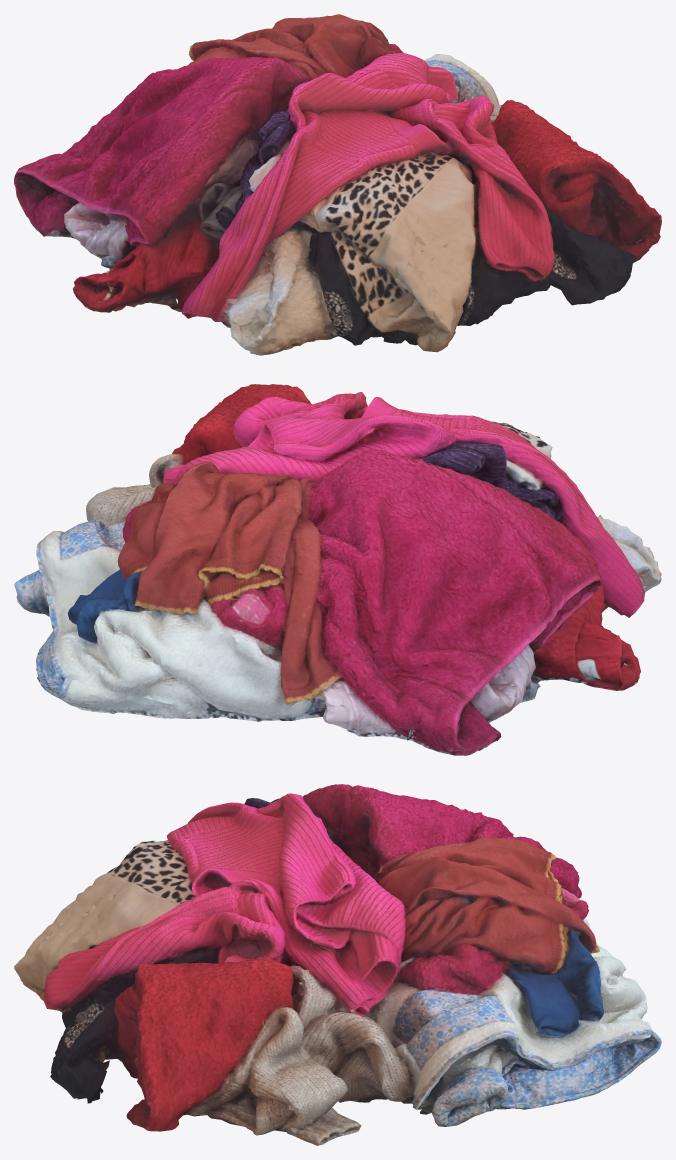
The model's file is pile_of_clothes.glb.
3 views of the same model, one above another, from view 1: azimuth 30°, elevation 25°; view 2: azimuth 150°, elevation 25°; view 3: azimuth 270°, elevation 25° (orthographic). The views are drawn at different scales.
Visible parts, largest first — view 1: Dress_pile; view 2: Dress_pile; view 3: Dress_pile.
Boxes of the visible parts, <box> form: Dress_pile: <box>14,14,661,355</box>; Dress_pile: <box>14,384,661,755</box>; Dress_pile: <box>14,784,661,1145</box>.
Bounding box in the file's own units: 0.8459 × 0.2914 × 0.8726.
Materials: 1 (1 with a texture image).
